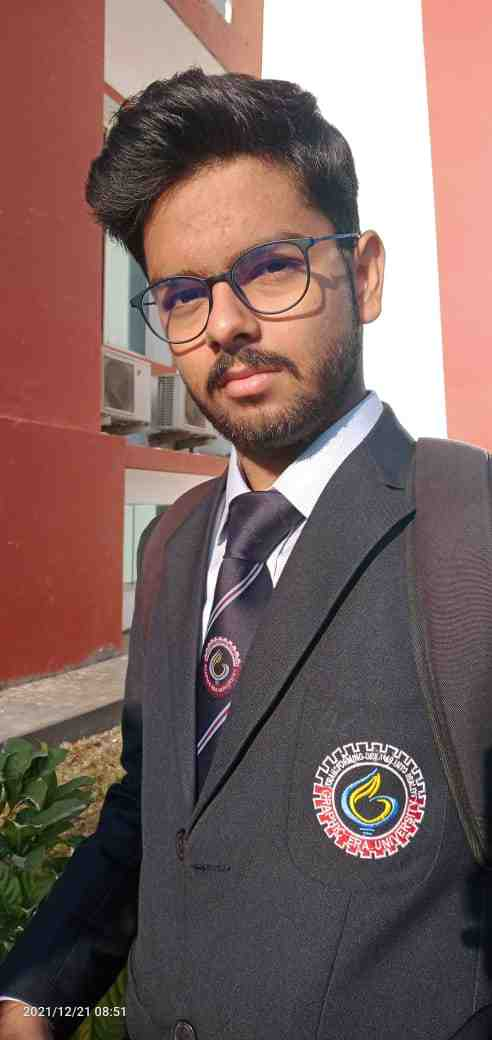blazer: (4, 451, 492, 1032)
tie: (173, 497, 303, 789)
